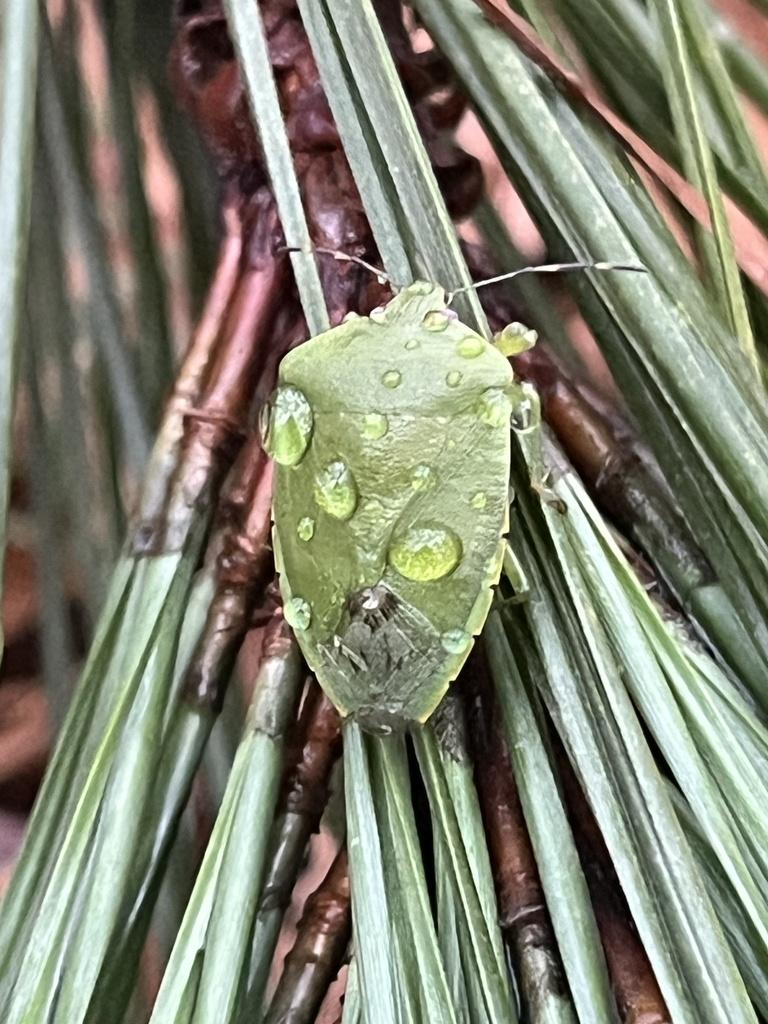stink_bugs: (147, 186, 674, 789)
